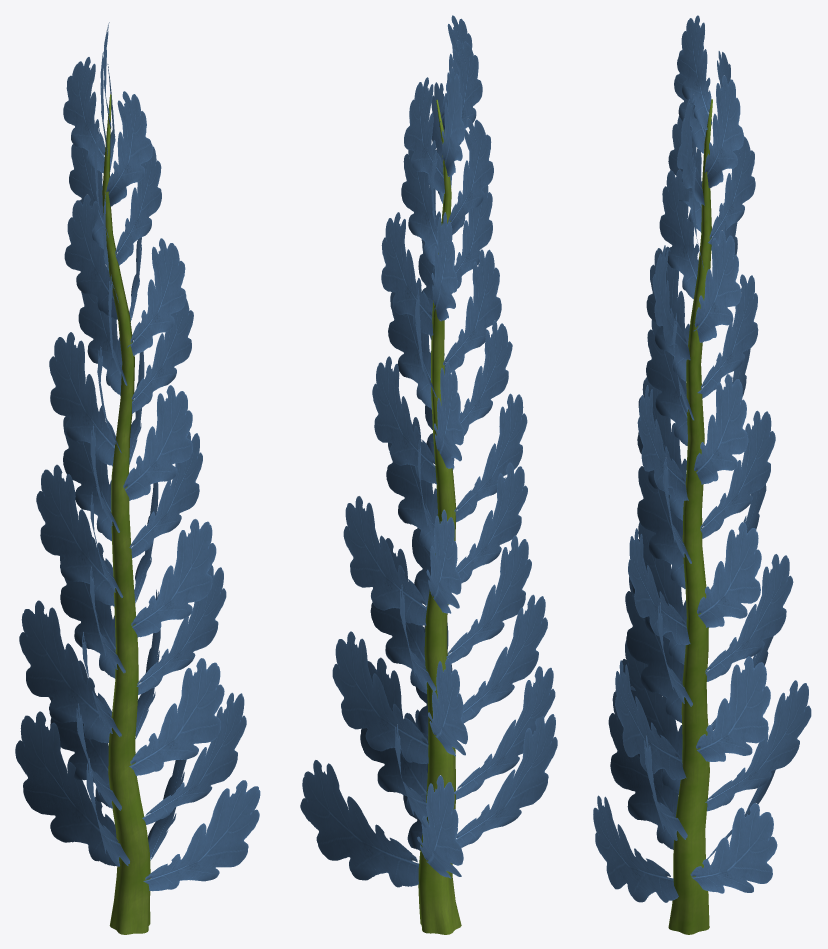
The model's file is SM_Kelp_03.fbx.
3 views of the same model, side by side, from view 1: azimuth 30°, elevation 25°; view 2: azimuth 150°, elevation 25°; view 3: azimuth 270°, elevation 25° (orthographic).
Parts seen in each view (by area): view 1: leaf oak_1, plant01_0; view 2: leaf oak_1, plant01_0; view 3: leaf oak_1, plant01_0.
Boxes of the visible parts, x1=… form: leaf oak_1: x1=15, y1=22, x2=260, y2=891; plant01_0: x1=102, y1=94, x2=150, y2=934; leaf oak_1: x1=300, y1=15, x2=557, y2=887; plant01_0: x1=418, y1=99, x2=461, y2=934; leaf oak_1: x1=593, y1=15, x2=811, y2=902; plant01_0: x1=668, y1=99, x2=712, y2=934.
Bounding box in the file's own units: 34.4 × 165 × 37.06.
